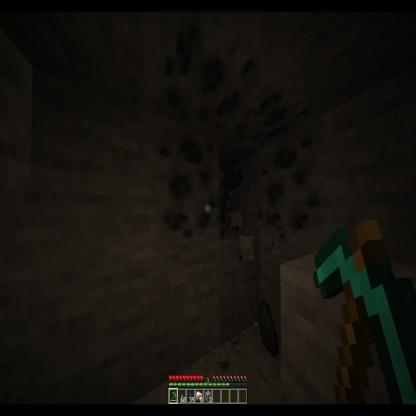coal ore: (160, 9, 260, 144), (152, 131, 222, 251), (257, 119, 323, 236)
